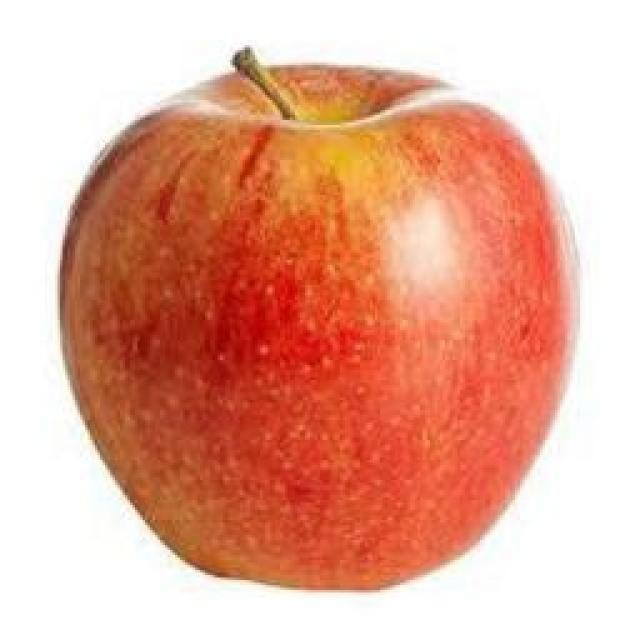Apple: (61, 54, 574, 588)
